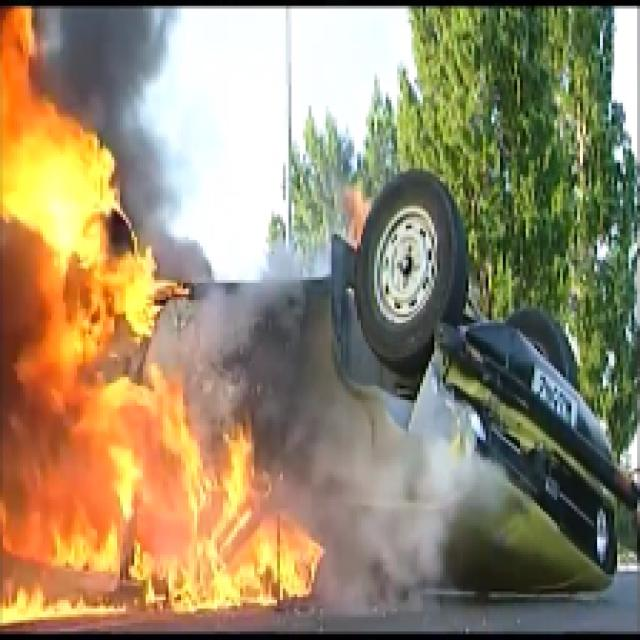fire: (0, 125, 121, 582), (133, 399, 230, 608)
smoke: (319, 432, 421, 602), (62, 26, 148, 99)
